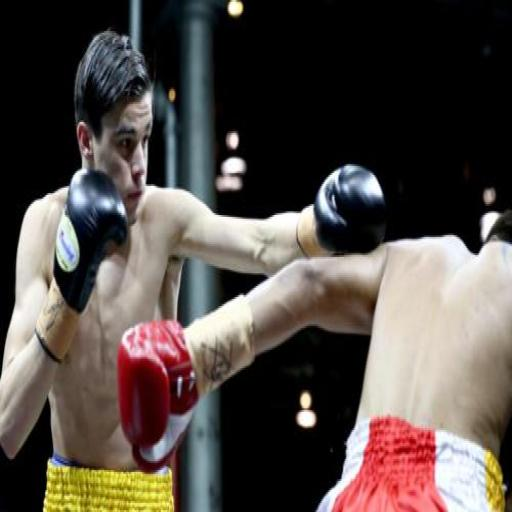boxing: (0, 28, 387, 510)
